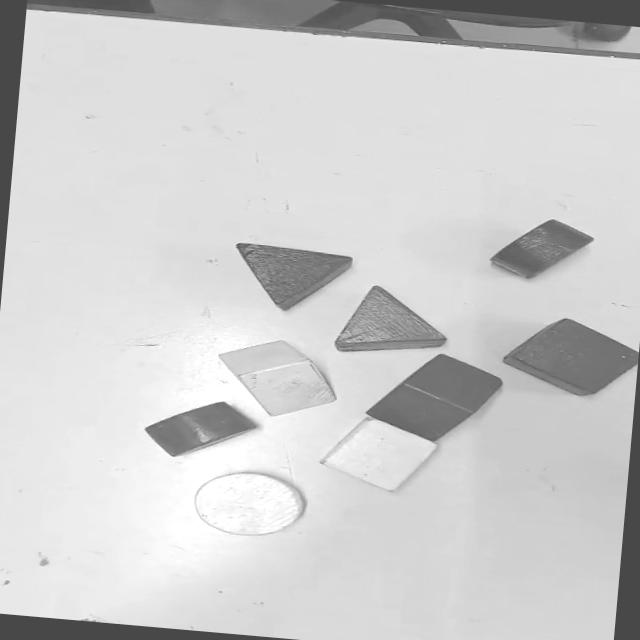bcircle: (490, 219, 594, 278)
bcube: (503, 319, 638, 396)
btriangle: (236, 243, 352, 310)
rcircle: (146, 402, 257, 457)
rcube: (367, 354, 503, 441)
rtriangle: (335, 286, 446, 352)
ycircle: (195, 473, 304, 536)
ycube: (321, 418, 437, 491)
ytriangle: (220, 342, 335, 416)
